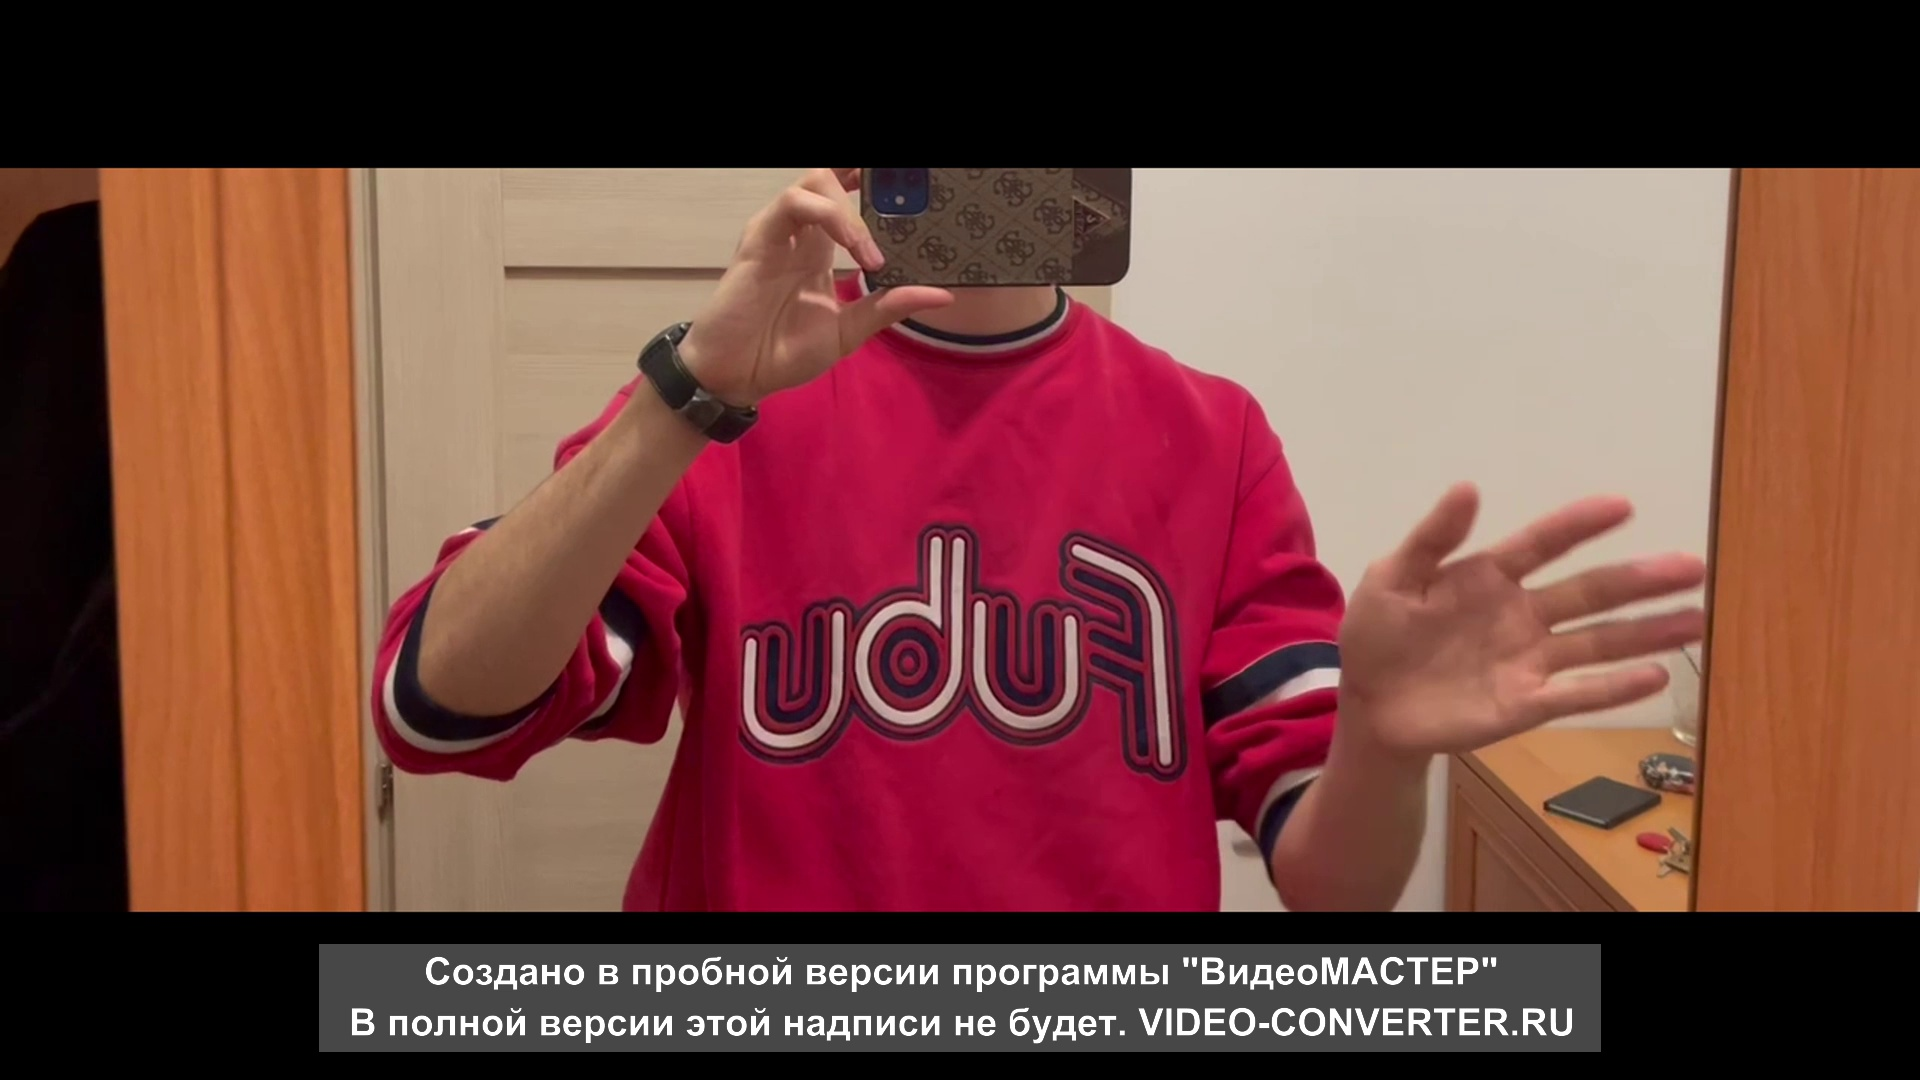Ладонь: (1344, 477, 1712, 745)
